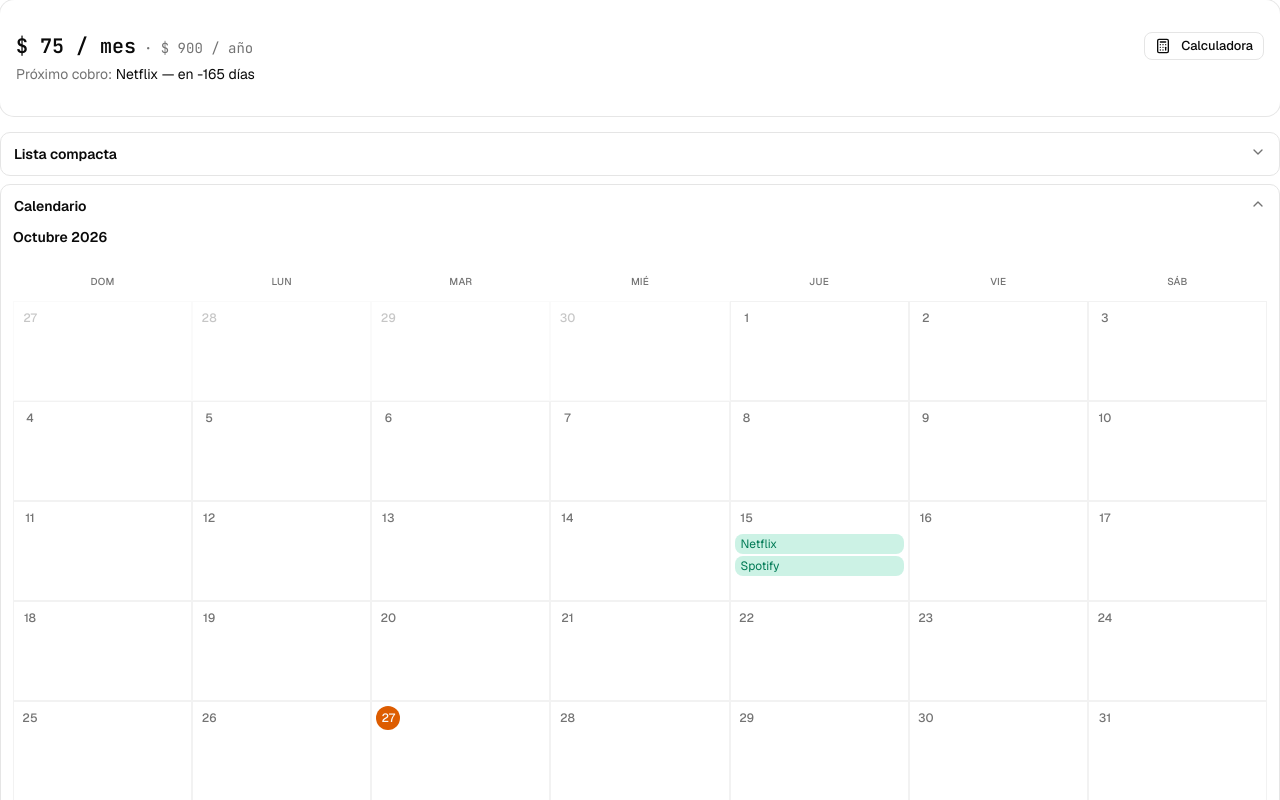
Test case: RecurringCalculator › click Calculadora — calculator opens, grid is still rendered
What coordinates should you click on to do the following:
click the button "Calculadora"
I would click on:
 (1204, 46)
Its box is 1144,32 -> 1264,60.
(page scrolled)
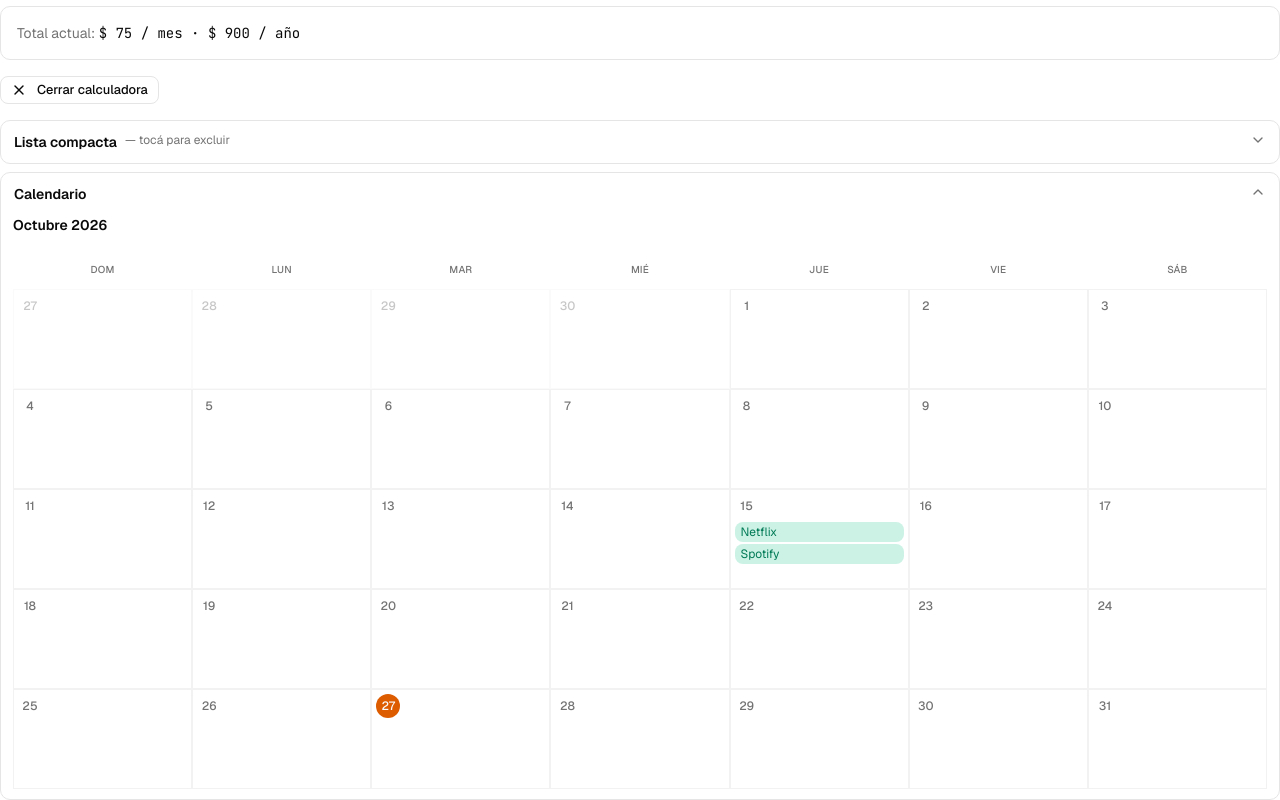
Result: the button "Cerrar calculadora" is shown at 0,76 -> 159,104
